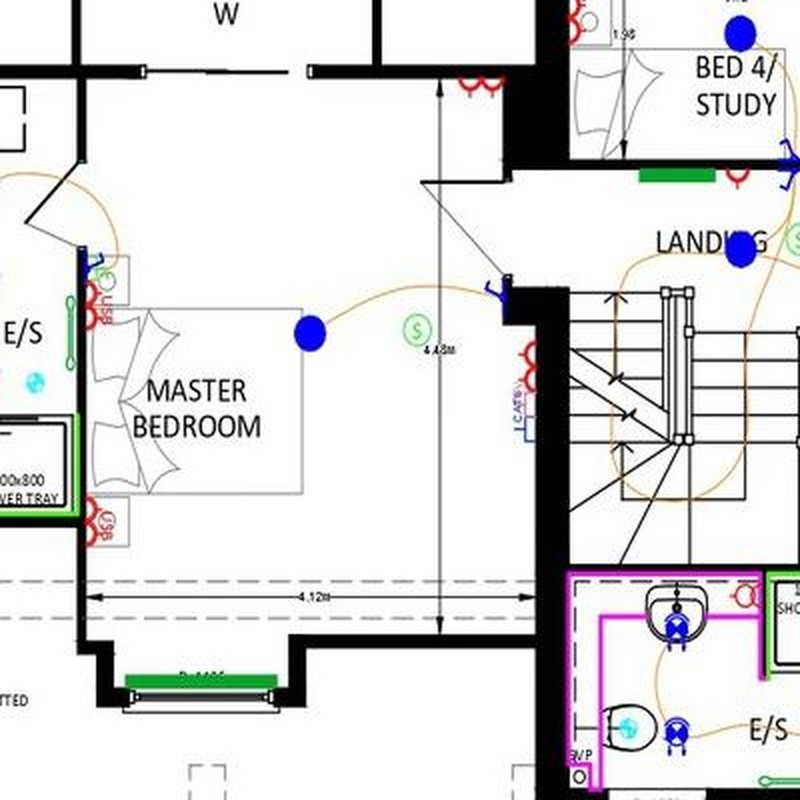Cat 6 Data Socket: (512, 392, 535, 442)
Ceiling Mounted Continuous Extract FanWith Boost Mode Activated By Light Switch: (25, 373, 43, 393), (619, 718, 636, 738)
Co-Ax TV Socket: (512, 382, 536, 416)
Double Socket: (517, 341, 537, 391), (458, 78, 503, 98), (568, 1, 587, 44)
Full Height Tiling: (1, 414, 79, 516), (766, 571, 800, 677)
Light Switch: (484, 280, 502, 304), (86, 253, 105, 275), (780, 138, 800, 158), (779, 171, 798, 191)
Low Energy Downlighter: (665, 614, 690, 653), (665, 717, 690, 756)
Low Energy Pendant Light: (724, 16, 758, 52), (726, 231, 757, 268), (295, 316, 326, 352)
Mains Wired Smoke Detector: (404, 314, 433, 345), (787, 222, 800, 255)
Radiator: (125, 674, 277, 690), (638, 169, 716, 182)
Shaver Socket: (729, 583, 762, 609)
Single Socket: (725, 170, 750, 190)
Telephone Socket: (88, 257, 113, 282)
USB Double Socket: (85, 280, 118, 330), (85, 497, 113, 547)
